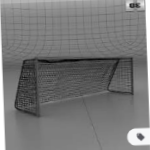goals: (12, 55, 136, 118)
